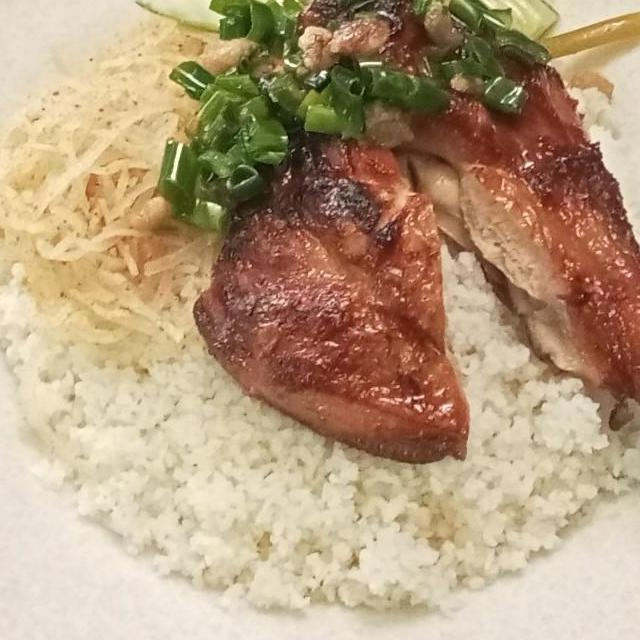bi: (0, 6, 268, 349)
com: (0, 226, 640, 624)
thit ga: (188, 0, 640, 514)
